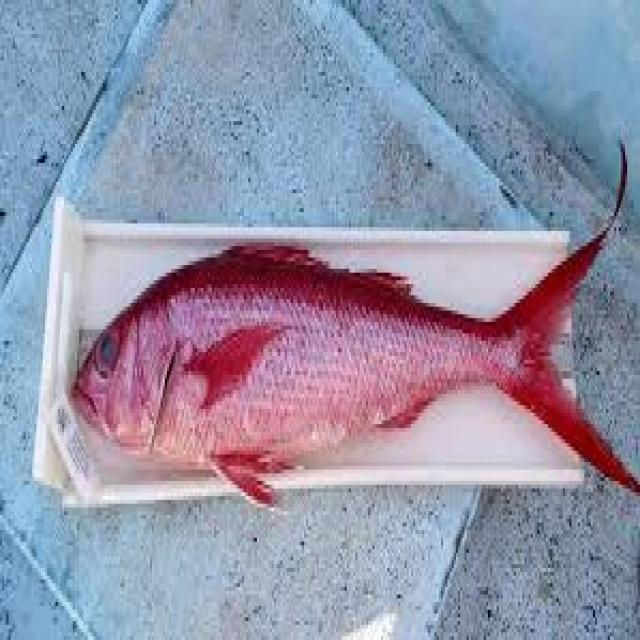northern-red-snapper: (57, 185, 640, 519)
